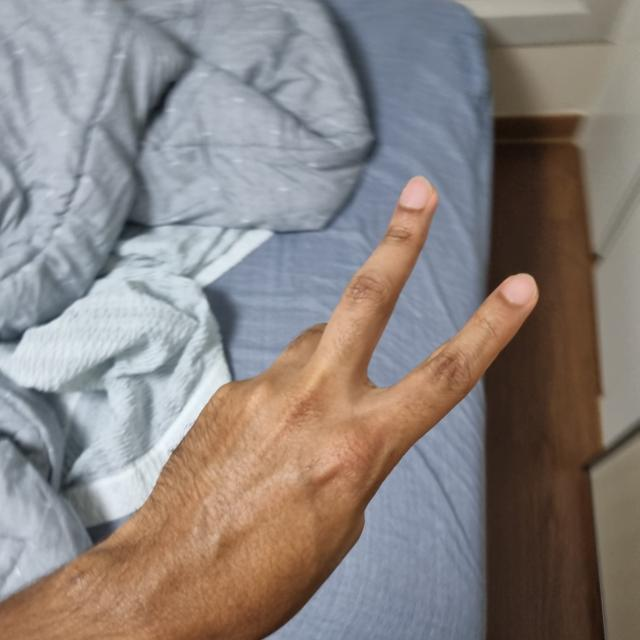Scissors: (121, 180, 532, 640)
